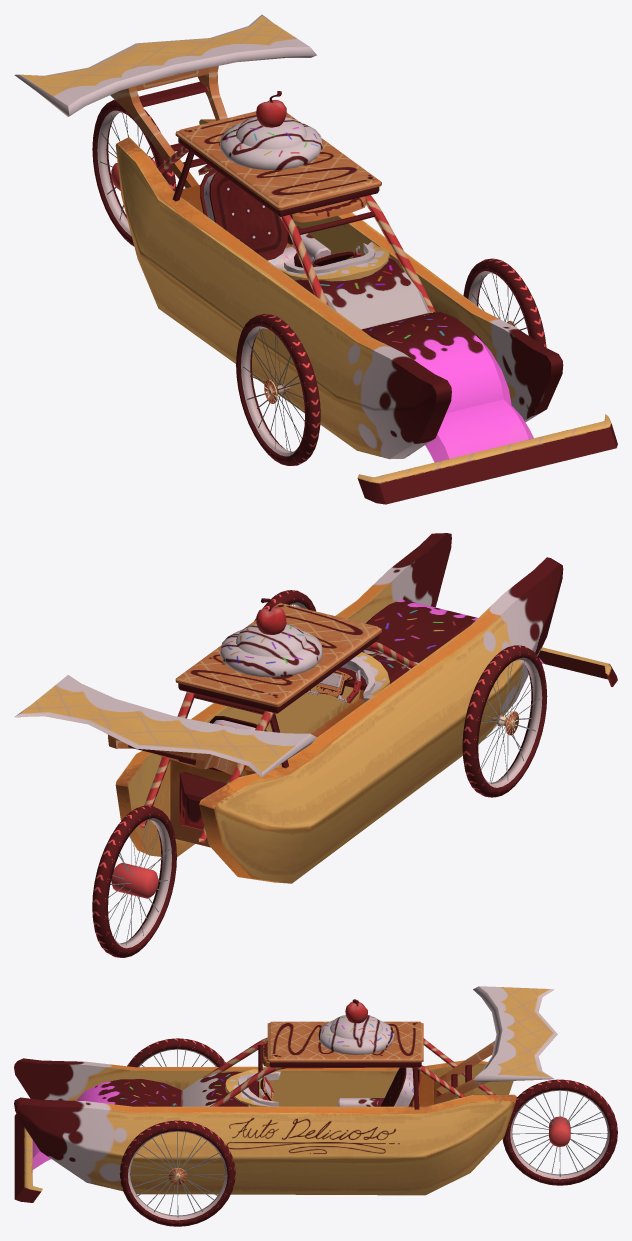
Rendered from fur_f10.fbx.
The picture shows the model from 3 angles, top to bottom: view 1: azimuth 30°, elevation 25°; view 2: azimuth 150°, elevation 25°; view 3: azimuth 270°, elevation 25°; orthographic projection. The views are drawn at different scales.
Parts seen in each view (by area): view 1: cro_#10, ale_#10, whe_#10, sil_#10; view 2: cro_#10, whe_#10, ale_#10, vol_#10; view 3: cro_#10, whe_#10, ale_#10, sil_#10.
Boxes of the visible parts, x1,y1,x2,y2 form: cro_#10: (115, 91, 617, 504); ale_#10: (14, 14, 316, 187); whe_#10: (92, 99, 546, 465); sil_#10: (200, 169, 330, 267); cro_#10: (115, 533, 617, 883); whe_#10: (92, 590, 547, 957); ale_#10: (14, 675, 316, 777); vol_#10: (306, 670, 361, 703); cro_#10: (14, 999, 516, 1202); whe_#10: (119, 1038, 617, 1226); ale_#10: (434, 986, 557, 1104); sil_#10: (338, 1067, 420, 1106).
Bounding box in the file's own units: 151 × 145 × 424.
3 materials, 3 textured.
